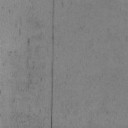surface scratch: (50, 0, 55, 126)
